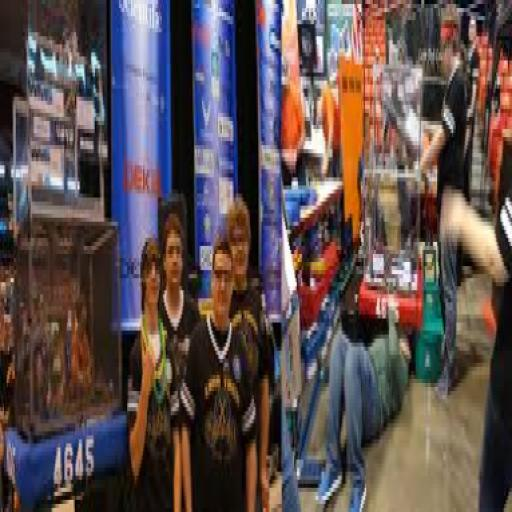robot: (358, 52, 429, 334), (278, 80, 344, 330)
